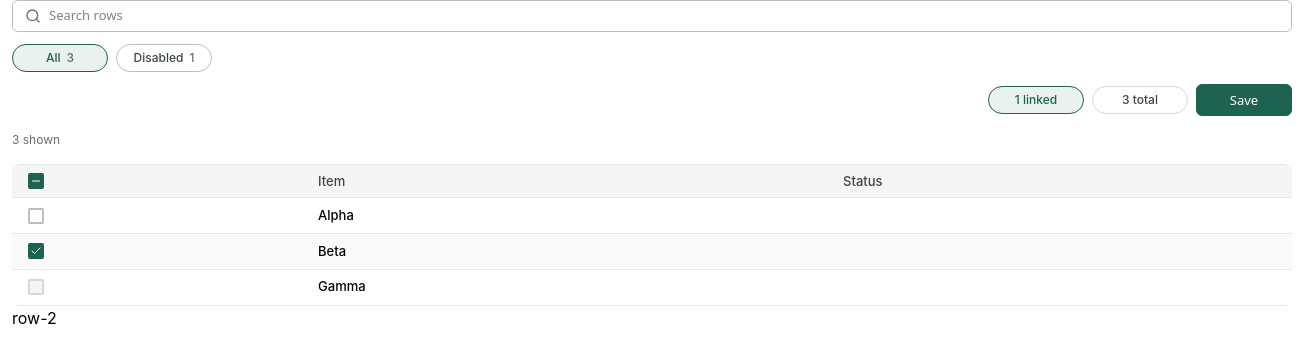
AssignmentSelector › selects only currently shown rows and skips disabled rows
Type "alpha" into the search field at (664, 16), box [49, 6, 1279, 26]
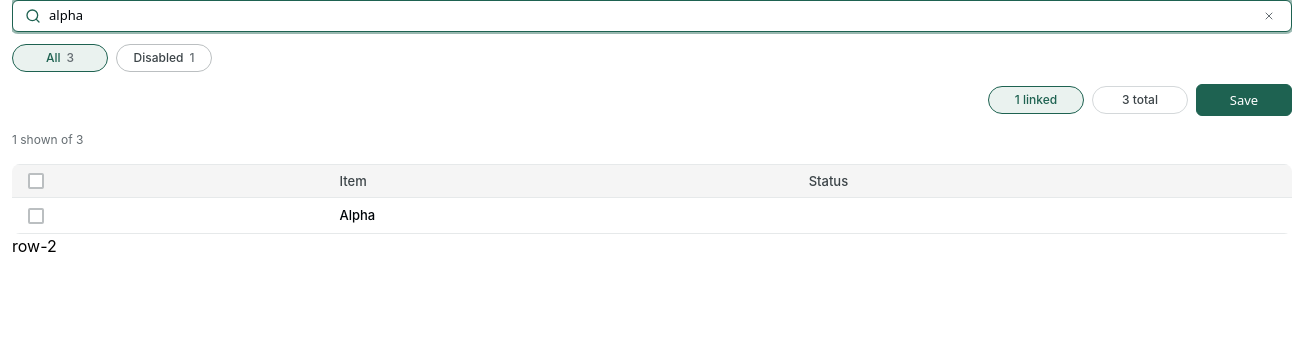
Click the checkbox named "Select visible rows" at (36, 181), box [28, 173, 44, 189]
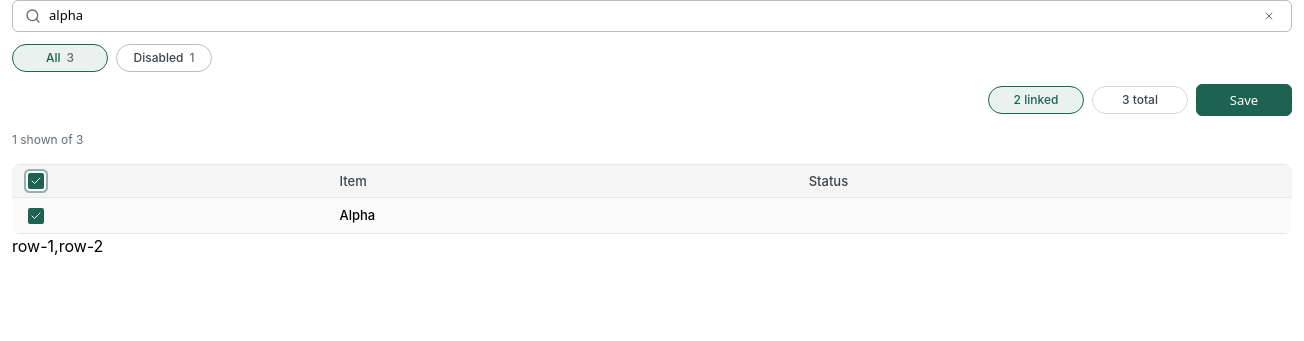
expect the text with test id "selected-ids" reads "row-1,row-2": met, box [12, 236, 103, 256]
